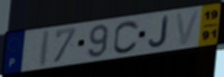7: (53, 27, 77, 66)
9: (86, 23, 111, 59)
C: (112, 19, 141, 55)
I: (37, 29, 52, 69)
J: (147, 14, 170, 49)
V: (174, 8, 203, 47)
